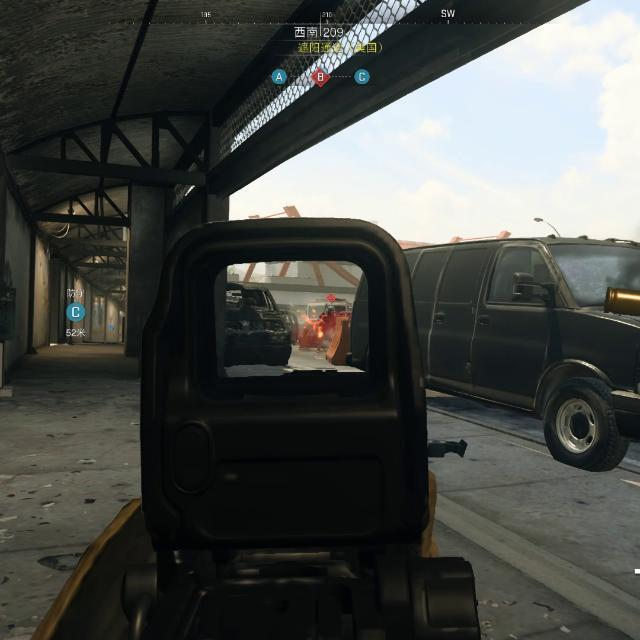MW2_body: (317, 293, 337, 327)
